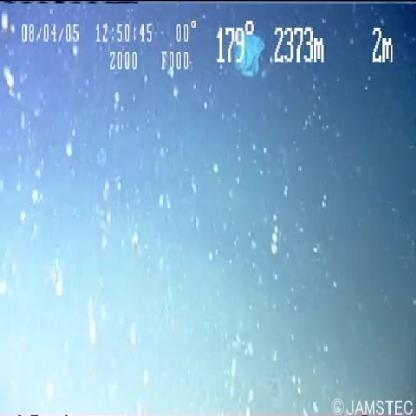Rác: (226, 22, 270, 83)
